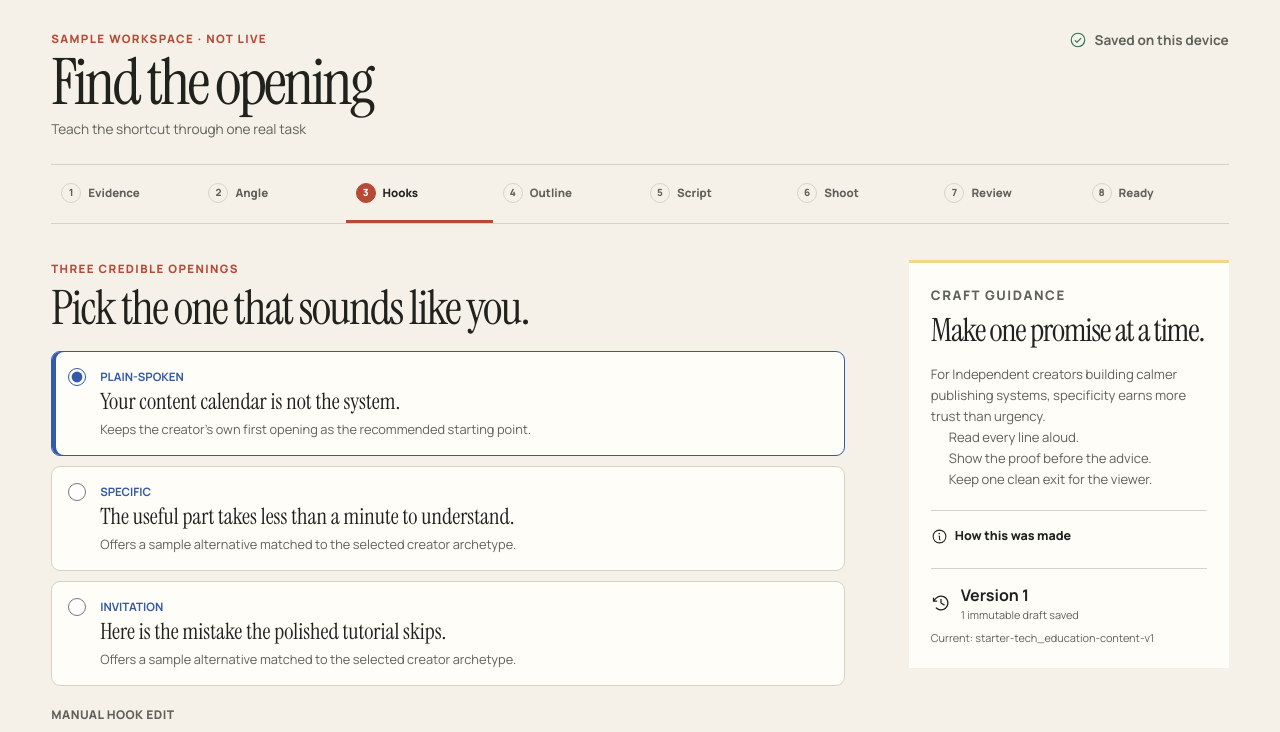
Test: content workshop › chooses a hook and advances with one immutable version append
Click the radio button labelled "Plain-spoken".
click(77, 377)  # box top-left (68, 368), bottom-right (86, 386)
(page scrolled)
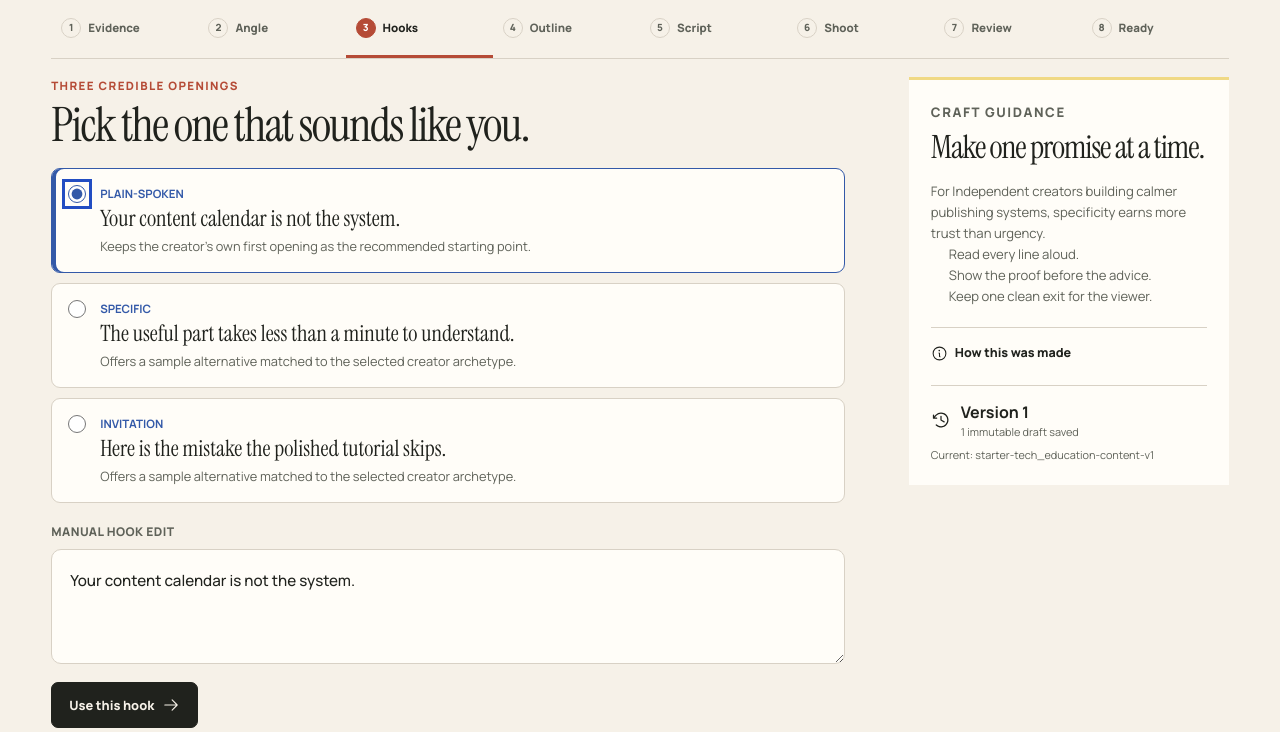
Click the button "Use this hook".
click(125, 705)  # box top-left (51, 682), bottom-right (198, 728)
(page scrolled)
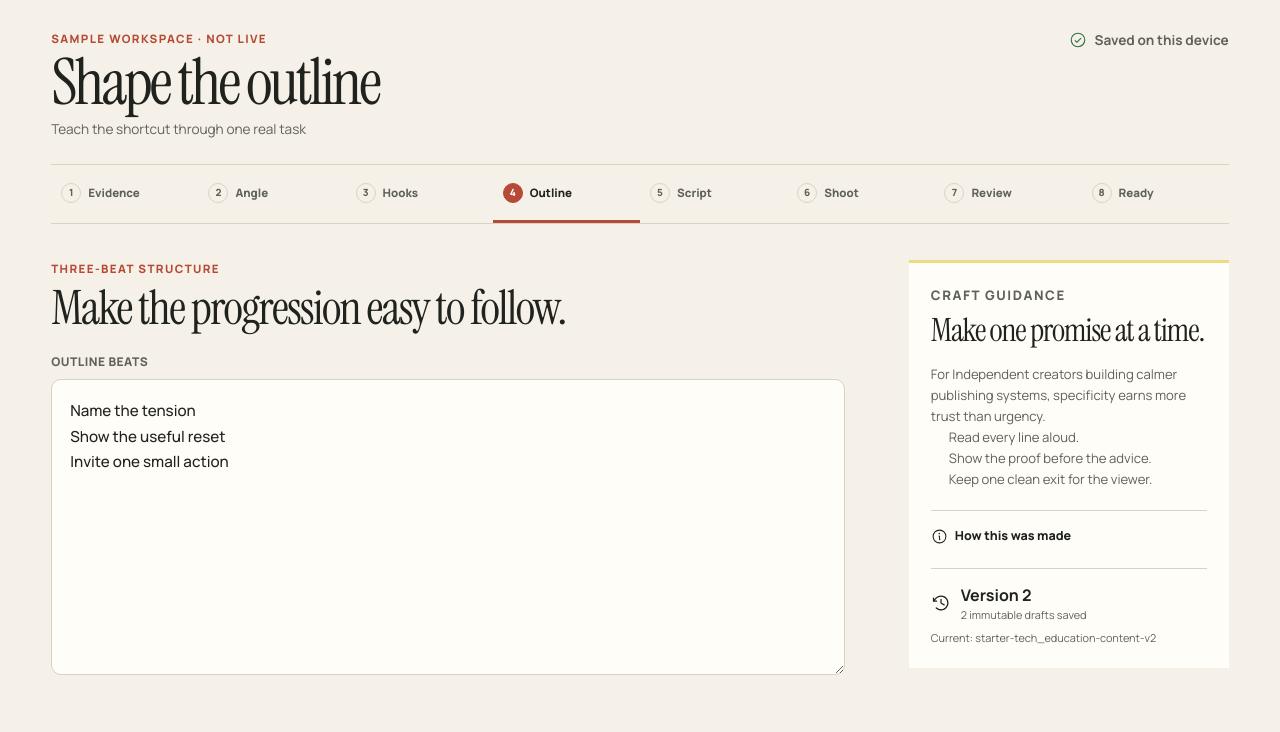
Result: the heading "Shape the outline" is shown at top-left (51, 53), bottom-right (379, 114)
Result: the text "Version 2" is shown at top-left (961, 584), bottom-right (1032, 606)
